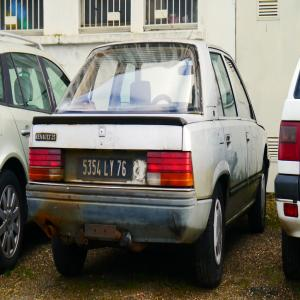Vehicle-registration-plate: (78, 158, 133, 182)
